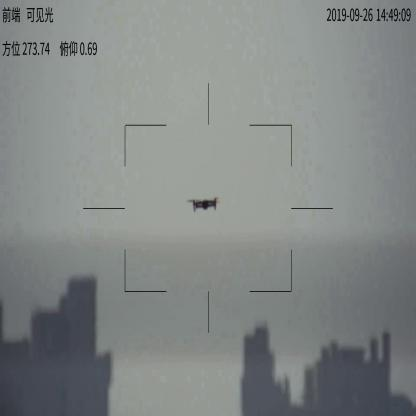uav: (188, 196, 221, 214)
